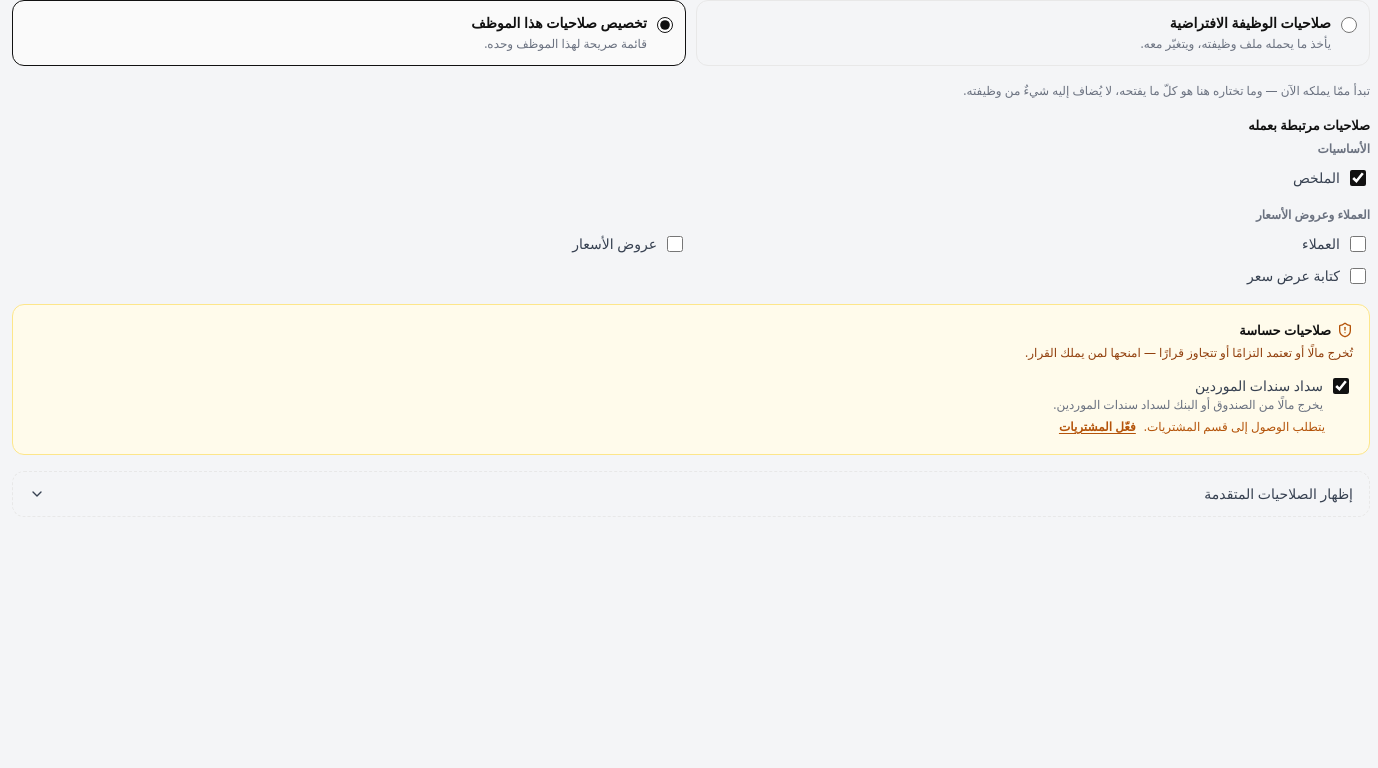
Test case: EmployeePermissions › says an action needs its section and offers to enable it
The width and height of the screenshot is (1378, 768).
Expected: the text "يتطلب الوصول إلى قسم المشتريات." is shown, [1144,418,1325,436]
Click the button "فعّل المشتريات": click(1097, 427) [1059,418,1136,436]
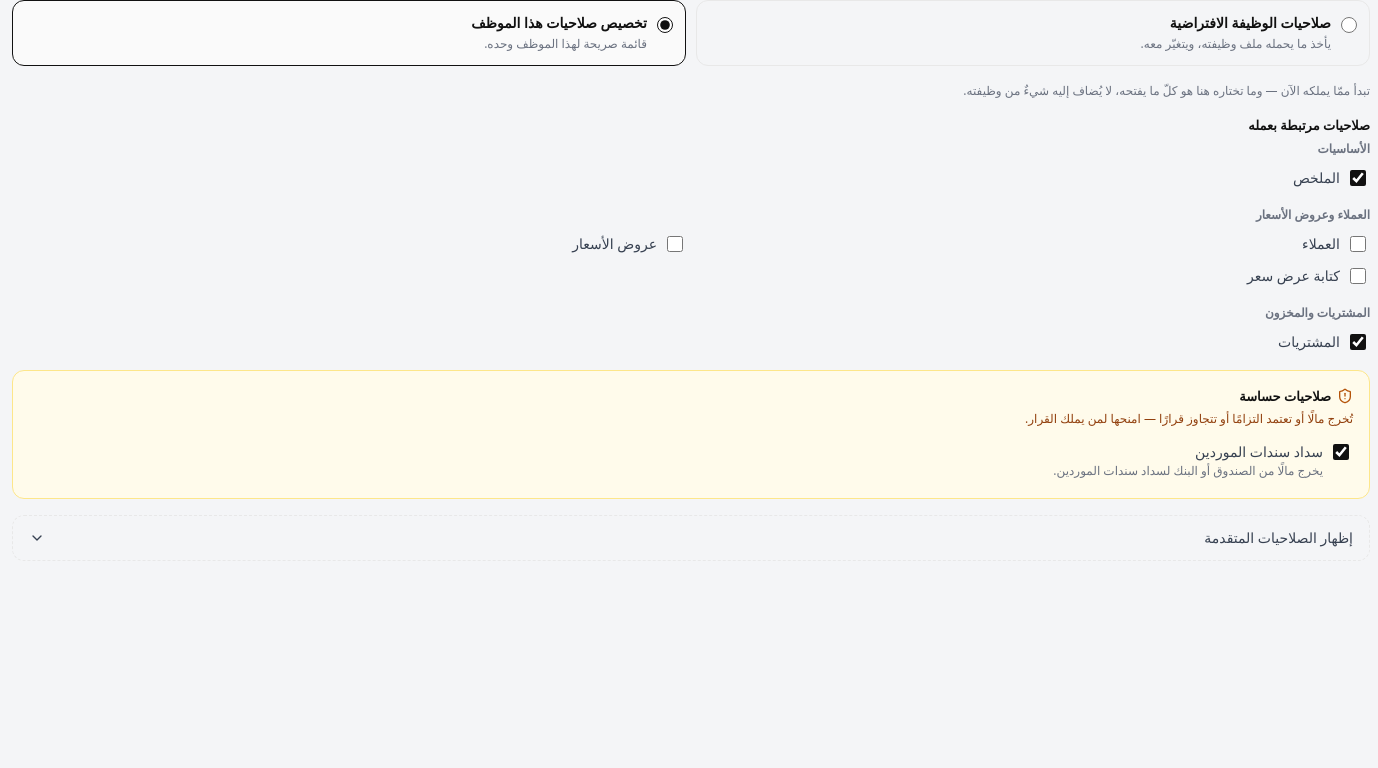
Expected: the text "يتطلب الوصول إلى قسم المشتريات." is gone
Expected: the checkbox labelled "المشتريات" is checked, [1350,334,1366,350]
